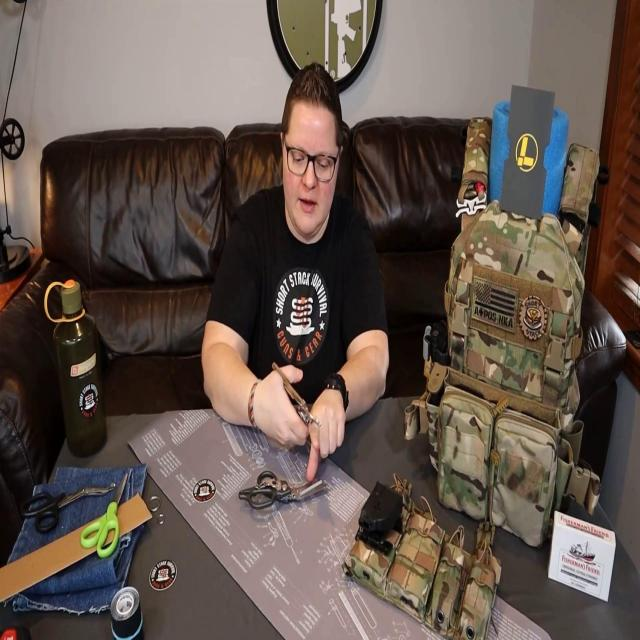scissor: (19, 480, 116, 535), (80, 472, 128, 558), (239, 469, 328, 512), (272, 361, 322, 429)
